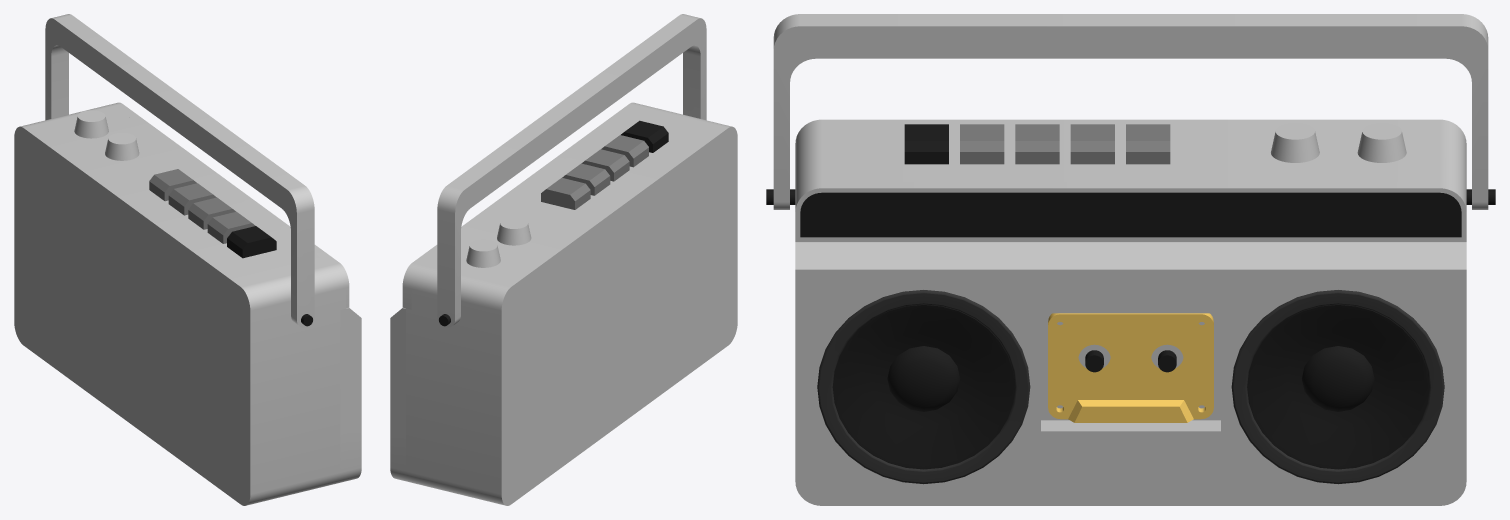
The model's file is Boombox.fbx.
3 renders of one model, left to right at view 1: azimuth 30°, elevation 25°; view 2: azimuth 150°, elevation 25°; view 3: azimuth 270°, elevation 25°, orthographic. The views are drawn at different scales.
Visible parts, largest first — view 1: Boombox; view 2: Boombox; view 3: Boombox.
Part boxes in pixels (<box>): Boombox: <box>14,14,361,505</box>; Boombox: <box>390,14,737,505</box>; Boombox: <box>766,14,1495,505</box>.
Size of the model in its own units: 42.62 by 111 by 166.
